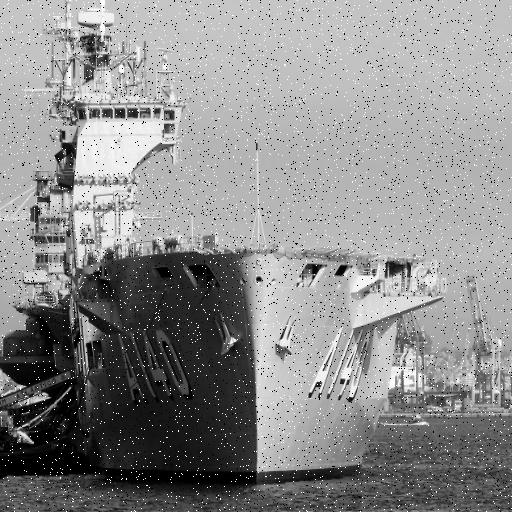Portanaves: (1, 1, 447, 491)
